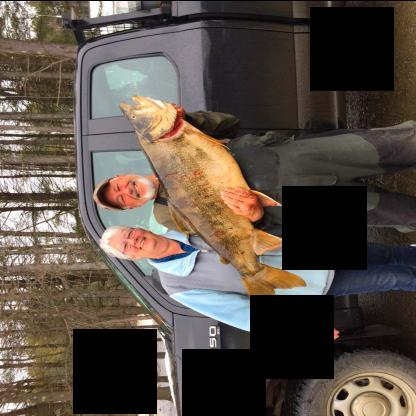fish: (118, 93, 306, 313)
